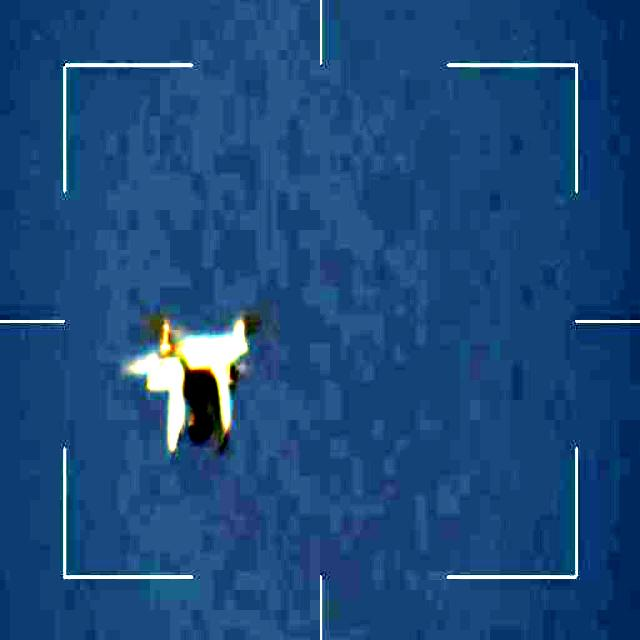bird: (134, 316, 265, 455)
